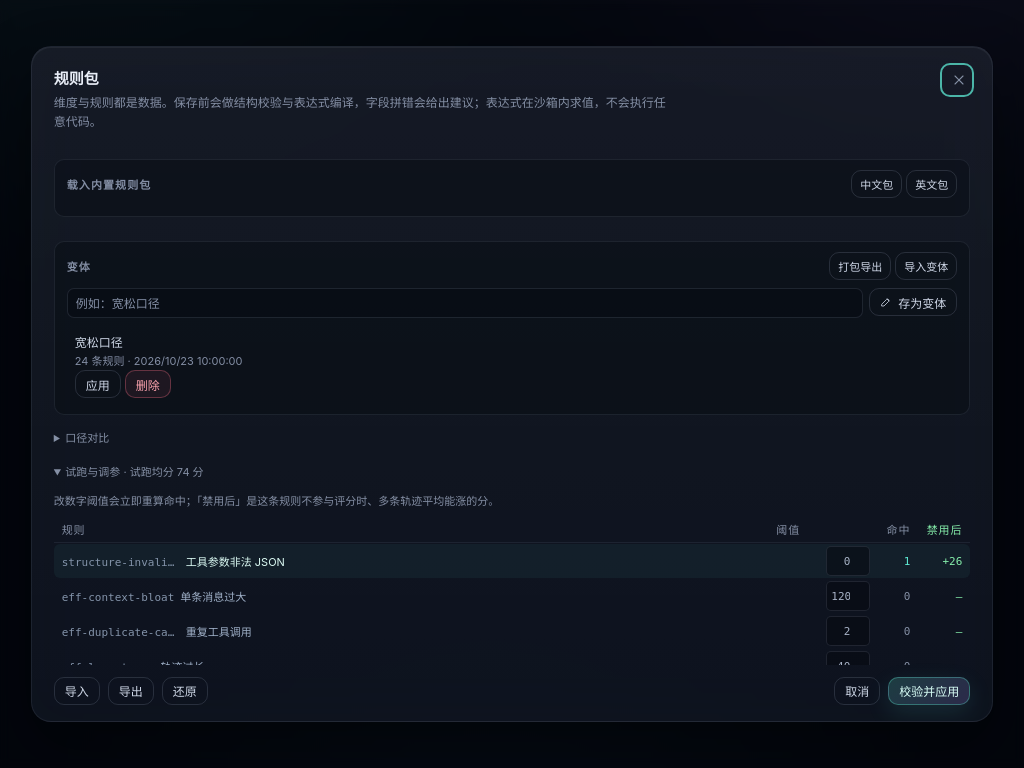
it: RuleDrawer pack comparison › compares the current pack against a variant across loaded sessions
Click the heading "口径对比" at (87, 438), box [65,432,109,446]
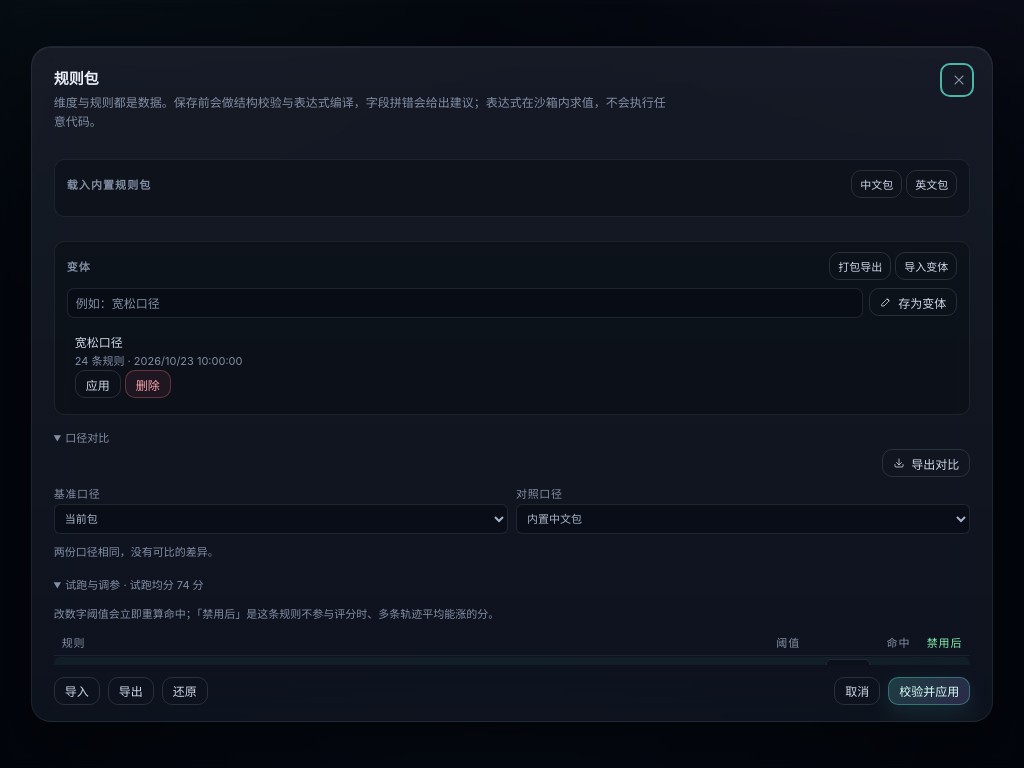
Check: the number of dropdowns is 2
Select "宽松口径" in the dropdown labelled "对照口径" at (743, 520), box [516,504,970,534]
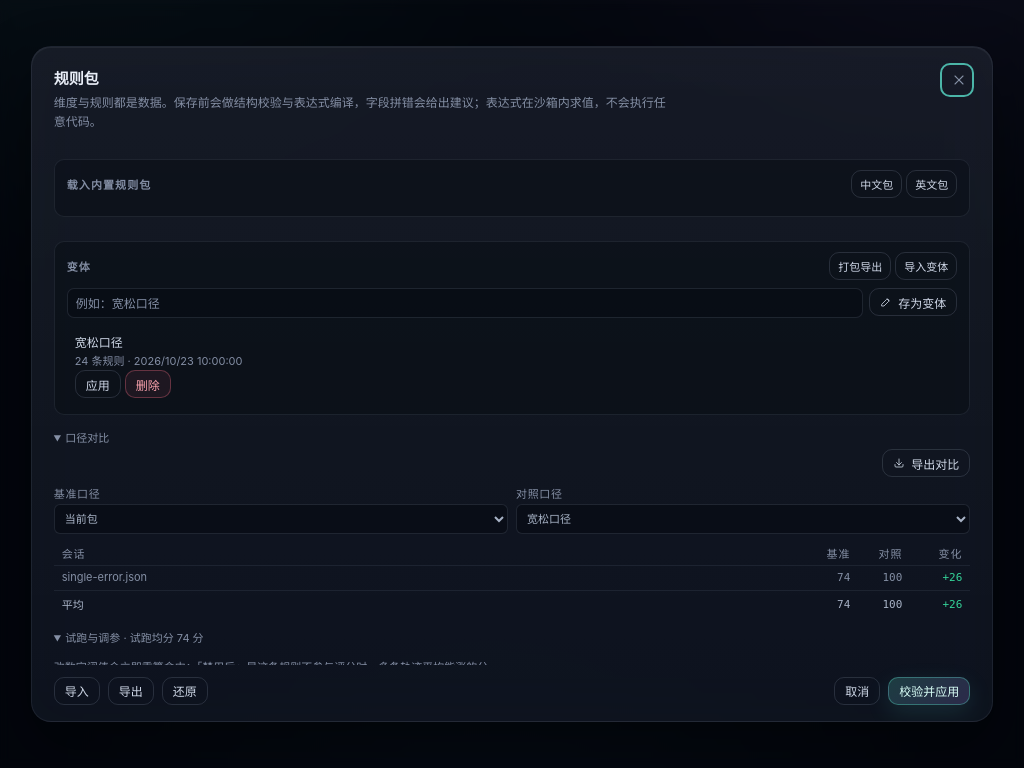
Check: the table shows "single-error.json", box [62,570,147,584]
